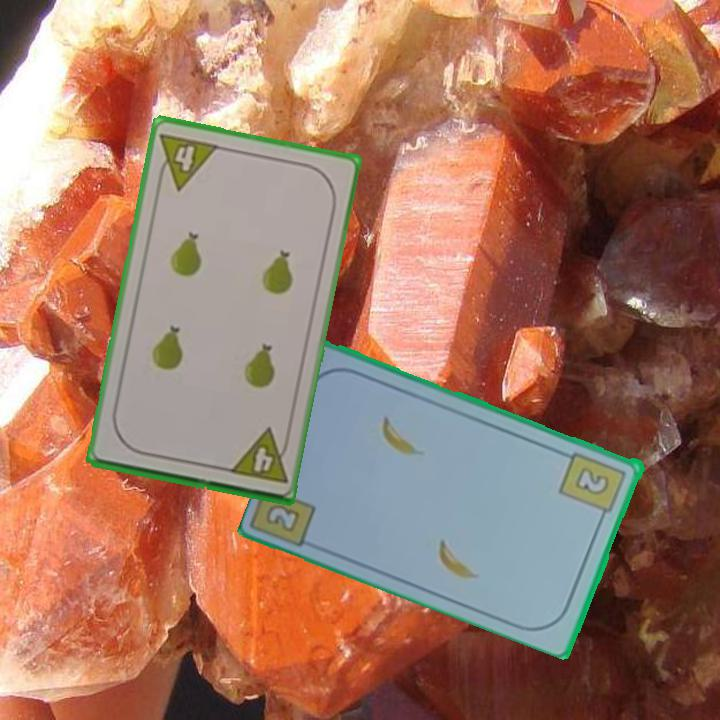2b: (556, 448, 630, 524), (262, 500, 304, 535)
4p: (152, 129, 221, 193), (225, 425, 293, 487)
